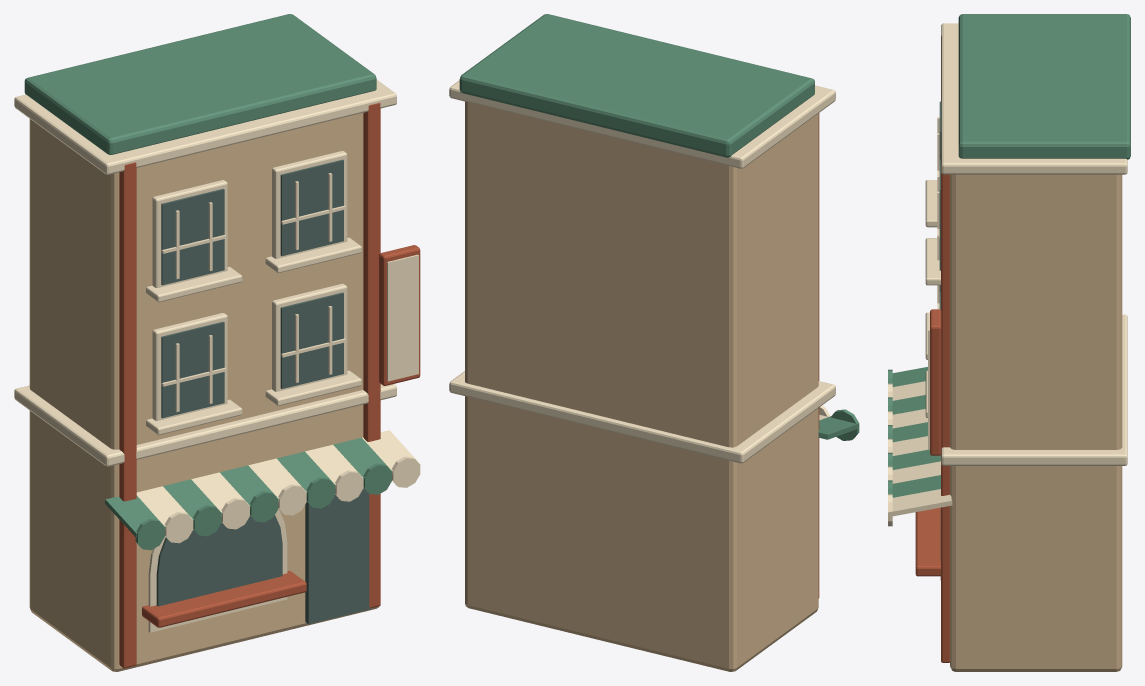
Rendered from tpe5_bubble_tea_shop_7m.glb.
The picture shows the model from 3 angles, left to right: view 1: azimuth 30°, elevation 25°; view 2: azimuth 150°, elevation 25°; view 3: azimuth 270°, elevation 25°; orthographic projection.
Visible parts, largest first — view 1: tpe5_bubble_tea_shop_7m__tpe3-plaster-cream, tpe5_bubble_tea_shop_7m__tpe3-ivory, tpe5_bubble_tea_shop_7m__tpe3-sage, tpe5_bubble_tea_shop_7m__tpe3-dark-timber, tpe5_bubble_tea_shop_7m__tpe3-terracotta; view 2: tpe5_bubble_tea_shop_7m__tpe3-plaster-cream, tpe5_bubble_tea_shop_7m__tpe3-sage, tpe5_bubble_tea_shop_7m__tpe3-ivory, tpe5_bubble_tea_shop_7m__tpe3-terracotta; view 3: tpe5_bubble_tea_shop_7m__tpe3-plaster-cream, tpe5_bubble_tea_shop_7m__tpe3-sage, tpe5_bubble_tea_shop_7m__tpe3-ivory, tpe5_bubble_tea_shop_7m__tpe3-terracotta, tpe5_bubble_tea_shop_7m__tpe3-dark-timber.
Part boxes in pixels (box(x1,y1,x2,y2)): tpe5_bubble_tea_shop_7m__tpe3-plaster-cream: box(29, 113, 379, 671); tpe5_bubble_tea_shop_7m__tpe3-ivory: box(14, 80, 420, 632); tpe5_bubble_tea_shop_7m__tpe3-sage: box(24, 14, 391, 550); tpe5_bubble_tea_shop_7m__tpe3-dark-timber: box(156, 159, 370, 624); tpe5_bubble_tea_shop_7m__tpe3-terracotta: box(119, 102, 420, 668); tpe5_bubble_tea_shop_7m__tpe3-plaster-cream: box(465, 101, 818, 671); tpe5_bubble_tea_shop_7m__tpe3-sage: box(459, 14, 859, 440); tpe5_bubble_tea_shop_7m__tpe3-ivory: box(449, 80, 835, 463); tpe5_bubble_tea_shop_7m__tpe3-terracotta: box(818, 113, 819, 598); tpe5_bubble_tea_shop_7m__tpe3-plaster-cream: box(950, 174, 1122, 671); tpe5_bubble_tea_shop_7m__tpe3-sage: box(888, 14, 1130, 497); tpe5_bubble_tea_shop_7m__tpe3-ivory: box(888, 23, 1127, 526); tpe5_bubble_tea_shop_7m__tpe3-terracotta: box(915, 36, 949, 662); tpe5_bubble_tea_shop_7m__tpe3-dark-timber: box(939, 101, 941, 580).
Bounding box in the file's own units: 6.2 × 10.21 × 4.23.
